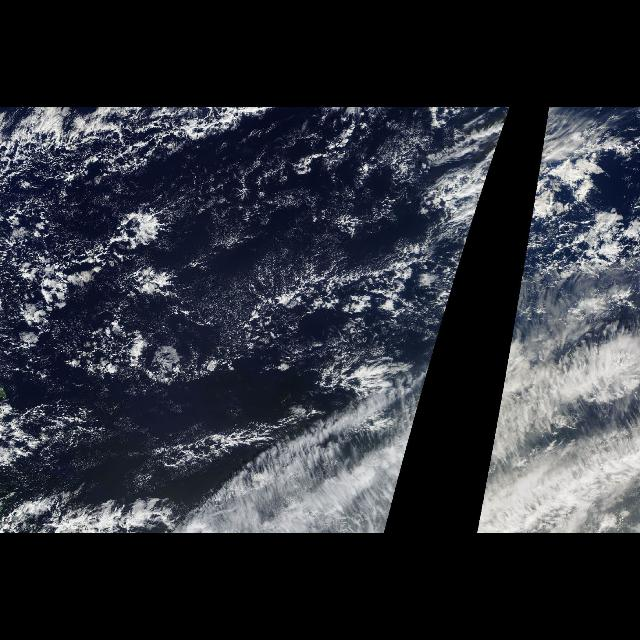Fish: (80, 315, 320, 479)
Gravel: (2, 107, 450, 467)
Sugar: (150, 125, 364, 379)
